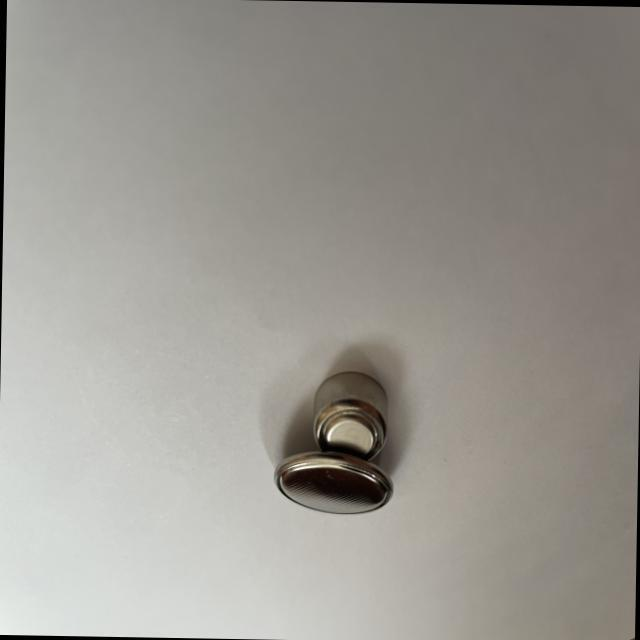COIN: (271, 446, 393, 514), (308, 370, 388, 461)
